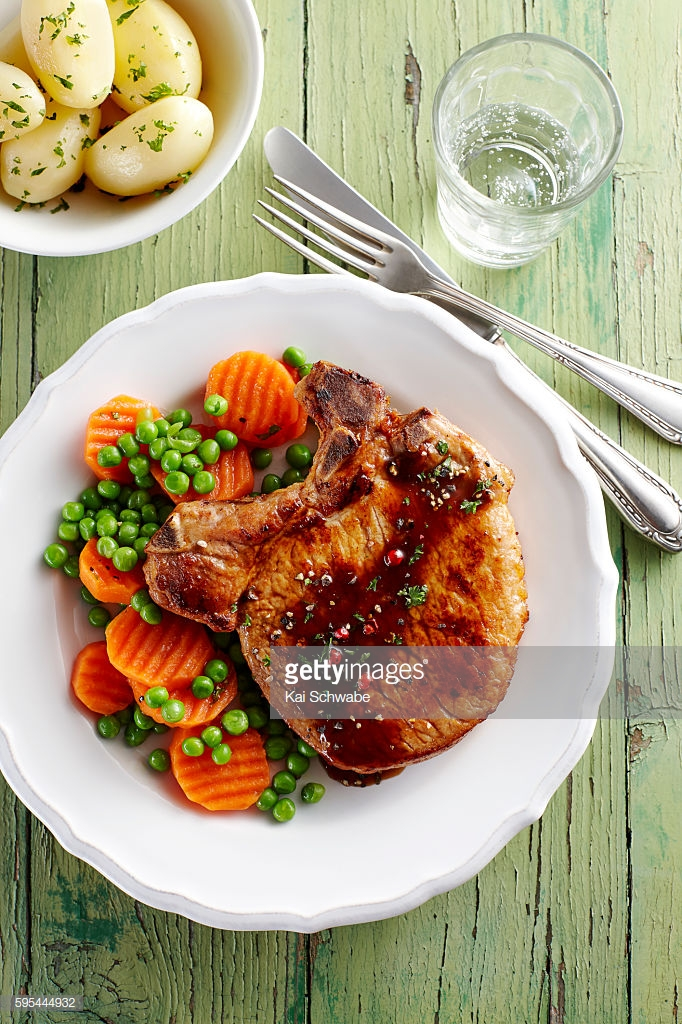boiled peas: (115, 428, 208, 482), (65, 508, 160, 540)
boiled potatoes: (25, 11, 203, 187)
